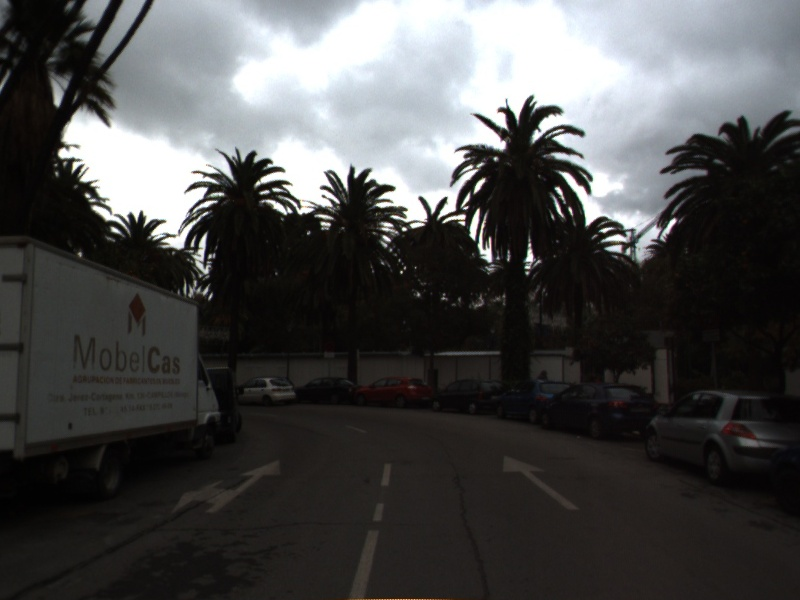STRAIGHT: (501, 453, 582, 512)
STRAIGHT_LEFT: (168, 457, 283, 517)
